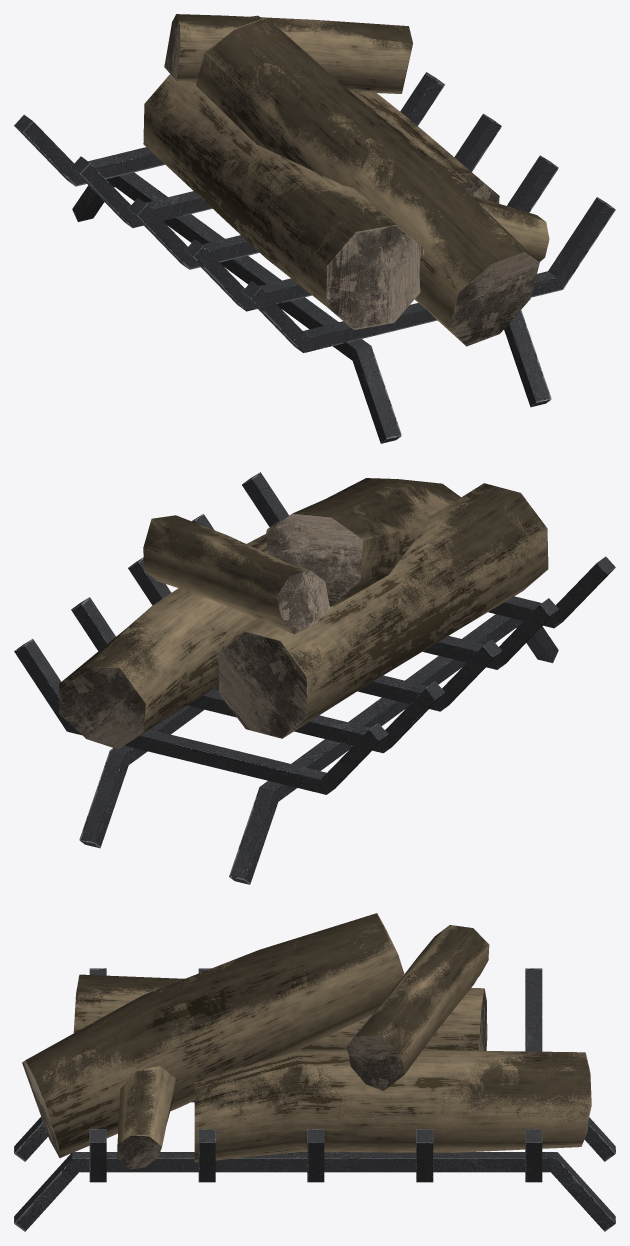
Rendered from logs.fbx.
The picture shows the model from 3 angles, top to bottom: view 1: azimuth 30°, elevation 25°; view 2: azimuth 150°, elevation 25°; view 3: azimuth 270°, elevation 25°; orthographic projection. The views are drawn at different scales.
Parts seen in each view (by area): view 1: Cylinder.001; view 2: Cylinder.001; view 3: Cylinder.001.
Boxes of the visible parts, x1=… form: Cylinder.001: x1=14, y1=14, x2=615, y2=443; Cylinder.001: x1=14, y1=472, x2=615, y2=884; Cylinder.001: x1=14, y1=913, x2=615, y2=1231.
Size of the model in its own units: 55.82 by 39.56 by 83.2.
